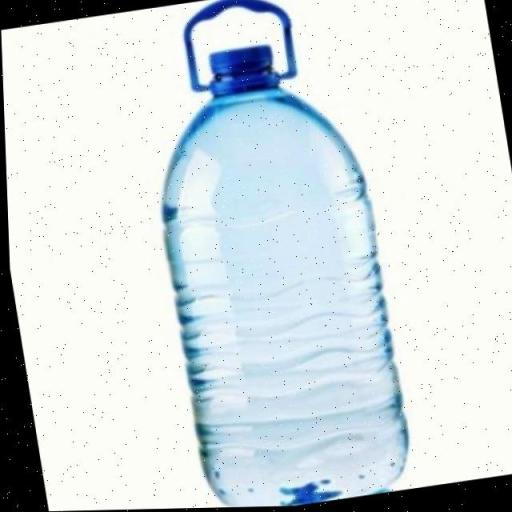plastic: (126, 0, 414, 510)
